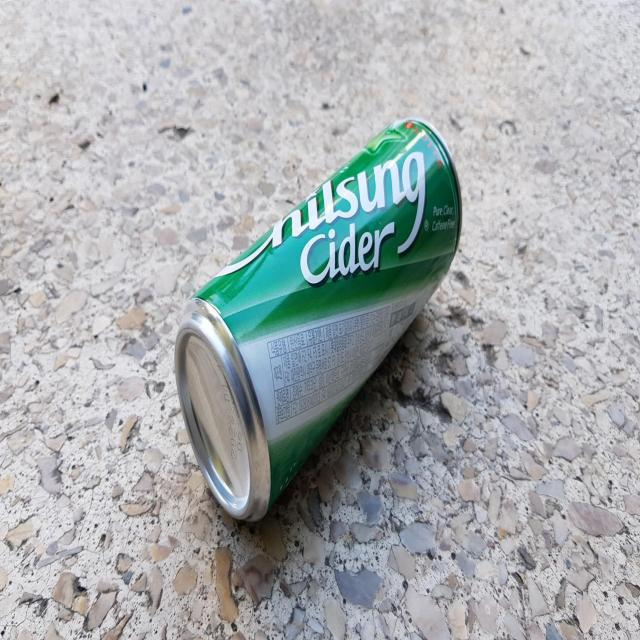can: (175, 116, 463, 521)
